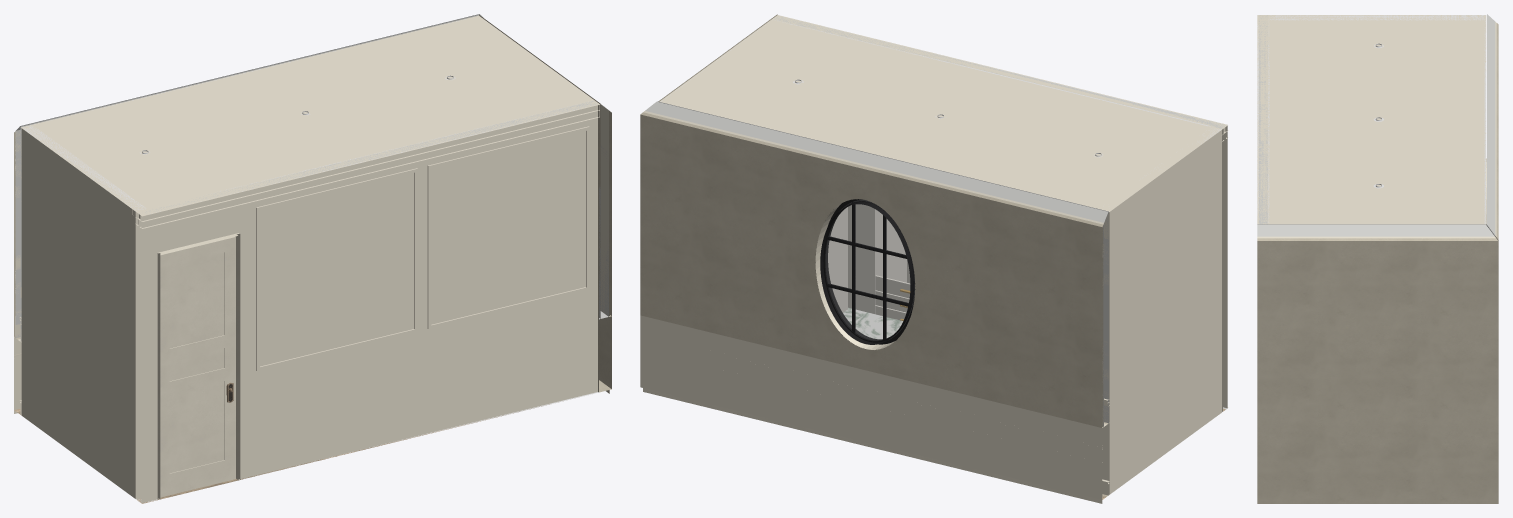
File: primary-green-closet-81d0770b8743.glb
The picture shows the model from 3 angles, left to right: view 1: azimuth 30°, elevation 25°; view 2: azimuth 150°, elevation 25°; view 3: azimuth 270°, elevation 25°; orthographic projection. The views are drawn at different scales.
Parts seen in each view (by area): view 1: primary-green-closet-21ac2ed1b4475155, primary-green-closet-9d91b47435c6fb33, primary-green-closet-95b94d4b81cfb474, primary-green-closet-b7a870a0f6b43c8c, primary-green-closet-8e484a943eae90b2, primary-green-closet-c5fd04e49693d8cd, primary-green-closet-780708765654f3c3, primary-green-closet-91eb0f90e9e94d87, primary-green-closet-30f9d475162e2dd8, primary-green-closet-08e5178be0cf1e43, primary-green-closet-3a163573517a0810, primary-green-closet-92b1a6021e7b5e29 (+2 smaller); view 2: primary-green-closet-3763e2fb8578d282, primary-green-closet-9d91b47435c6fb33, primary-green-closet-3a806c711886e947, primary-green-closet-95b94d4b81cfb474, primary-green-closet-f219c7bacf6b249f, primary-green-closet-91eb0f90e9e94d87, primary-green-closet-f386269db15356c9, primary-green-closet-1e29f5ba50d80e7e, primary-green-closet-21ac2ed1b4475155, primary-green-closet-2575515a05775d9e, primary-green-closet-feba501210e42be9, primary-green-closet-ddb0cf611f7c1133 (+4 smaller); view 3: primary-green-closet-adb6f49a6d2cbec3, primary-green-closet-9d91b47435c6fb33, primary-green-closet-16d9002bc6318568, primary-green-closet-791abe15be22adf2, primary-green-closet-91eb0f90e9e94d87, primary-green-closet-21ac2ed1b4475155, primary-green-closet-3a163573517a0810, primary-green-closet-92b1a6021e7b5e29, primary-green-closet-95b94d4b81cfb474, primary-green-closet-2575515a05775d9e, primary-green-closet-30f9d475162e2dd8, primary-green-closet-3763e2fb8578d282 (+5 smaller).
Boxes of the visible parts, bbox=[...] form: primary-green-closet-21ac2ed1b4475155: bbox=[136, 101, 598, 503]; primary-green-closet-9d91b47435c6fb33: bbox=[21, 15, 600, 216]; primary-green-closet-95b94d4b81cfb474: bbox=[21, 126, 145, 498]; primary-green-closet-b7a870a0f6b43c8c: bbox=[160, 236, 235, 497]; primary-green-closet-8e484a943eae90b2: bbox=[427, 126, 589, 329]; primary-green-closet-c5fd04e49693d8cd: bbox=[256, 168, 417, 370]; primary-green-closet-780708765654f3c3: bbox=[157, 233, 240, 499]; primary-green-closet-91eb0f90e9e94d87: bbox=[15, 14, 478, 341]; primary-green-closet-30f9d475162e2dd8: bbox=[600, 104, 609, 316]; primary-green-closet-08e5178be0cf1e43: bbox=[141, 104, 600, 228]; primary-green-closet-3a163573517a0810: bbox=[132, 98, 592, 224]; primary-green-closet-92b1a6021e7b5e29: bbox=[148, 111, 562, 211]; primary-green-closet-3763e2fb8578d282: bbox=[642, 112, 1103, 427]; primary-green-closet-9d91b47435c6fb33: bbox=[658, 14, 1226, 212]; primary-green-closet-3a806c711886e947: bbox=[640, 315, 1109, 499]; primary-green-closet-95b94d4b81cfb474: bbox=[1103, 128, 1221, 494]; primary-green-closet-f219c7bacf6b249f: bbox=[826, 200, 914, 340]; primary-green-closet-91eb0f90e9e94d87: bbox=[653, 102, 1108, 426]; primary-green-closet-f386269db15356c9: bbox=[848, 204, 910, 320]; primary-green-closet-1e29f5ba50d80e7e: bbox=[815, 199, 915, 344]; primary-green-closet-21ac2ed1b4475155: bbox=[774, 15, 1227, 412]; primary-green-closet-2575515a05775d9e: bbox=[643, 388, 1225, 503]; primary-green-closet-feba501210e42be9: bbox=[828, 207, 847, 312]; primary-green-closet-ddb0cf611f7c1133: bbox=[644, 111, 1103, 426]; primary-green-closet-adb6f49a6d2cbec3: bbox=[1257, 237, 1498, 432]; primary-green-closet-9d91b47435c6fb33: bbox=[1257, 15, 1486, 224]; primary-green-closet-16d9002bc6318568: bbox=[1257, 432, 1498, 501]; primary-green-closet-791abe15be22adf2: bbox=[1257, 224, 1495, 236]; primary-green-closet-91eb0f90e9e94d87: bbox=[1486, 14, 1495, 231]; primary-green-closet-21ac2ed1b4475155: bbox=[1257, 15, 1269, 224]; primary-green-closet-3a163573517a0810: bbox=[1268, 15, 1275, 224]; primary-green-closet-92b1a6021e7b5e29: bbox=[1260, 20, 1268, 224]; primary-green-closet-95b94d4b81cfb474: bbox=[1269, 15, 1484, 20]; primary-green-closet-2575515a05775d9e: bbox=[1257, 501, 1498, 503]; primary-green-closet-30f9d475162e2dd8: bbox=[1257, 236, 1496, 238]; primary-green-closet-3763e2fb8578d282: bbox=[1496, 23, 1498, 238].
Size of the model in its own units: 4.95 by 2.95 by 2.34.
22 materials, 5 textured.
